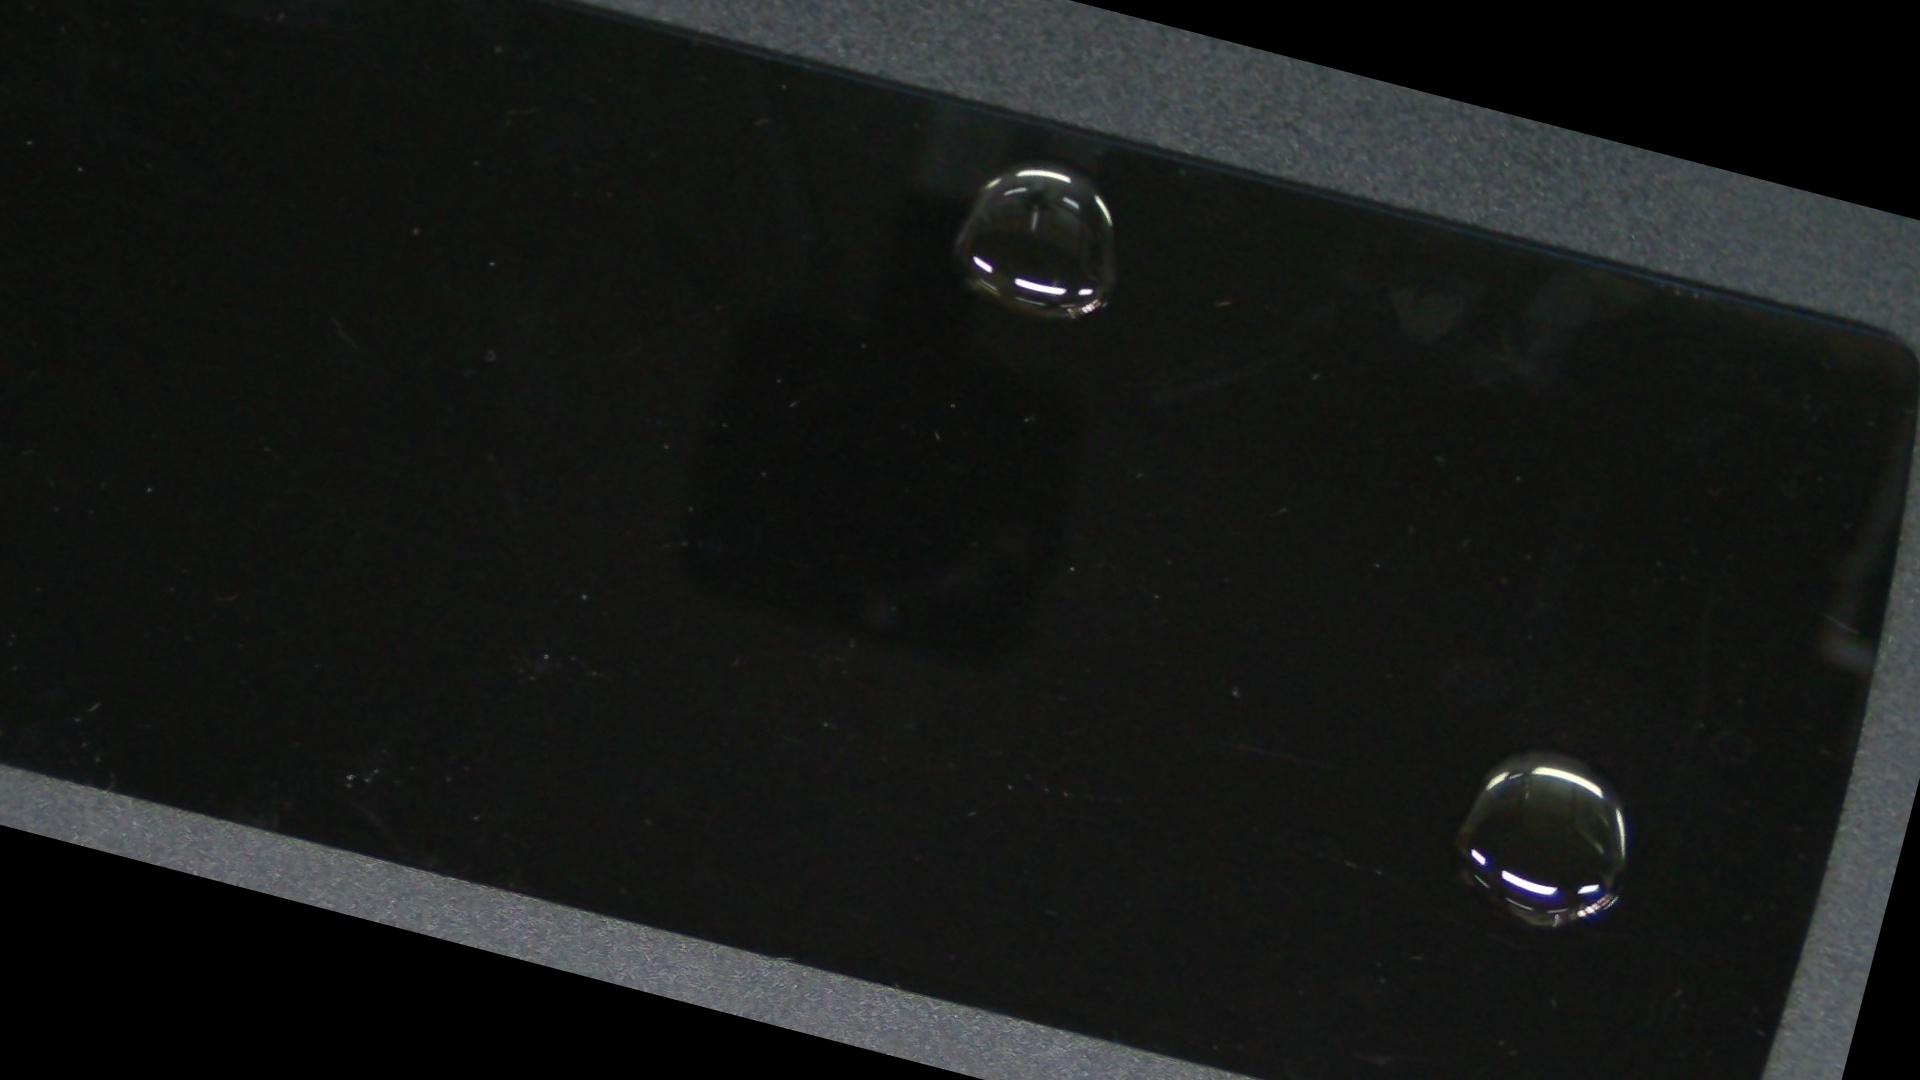oil: (599, 231, 1920, 1080), (462, 0, 1660, 394)
